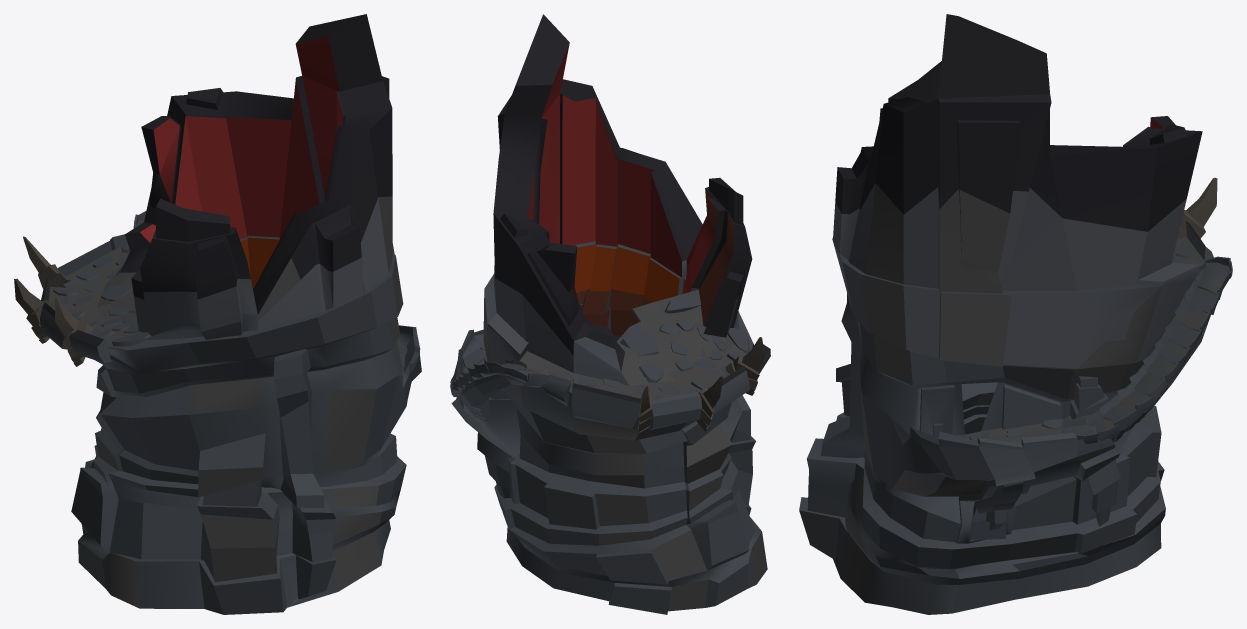
3 views of the same model, side by side, from view 1: azimuth 30°, elevation 25°; view 2: azimuth 150°, elevation 25°; view 3: azimuth 270°, elevation 25° (orthographic). The views are drawn at different scales.
Parts seen in each view (by area): view 1: segment_5; view 2: segment_5; view 3: segment_5.
Part boxes in pixels (x1=…): segment_5: x1=14, y1=14, x2=421, y2=614; segment_5: x1=450, y1=14, x2=770, y2=614; segment_5: x1=799, y1=14, x2=1232, y2=614.
Bounding box in the file's own units: 35.19 × 52.47 × 33.48.
